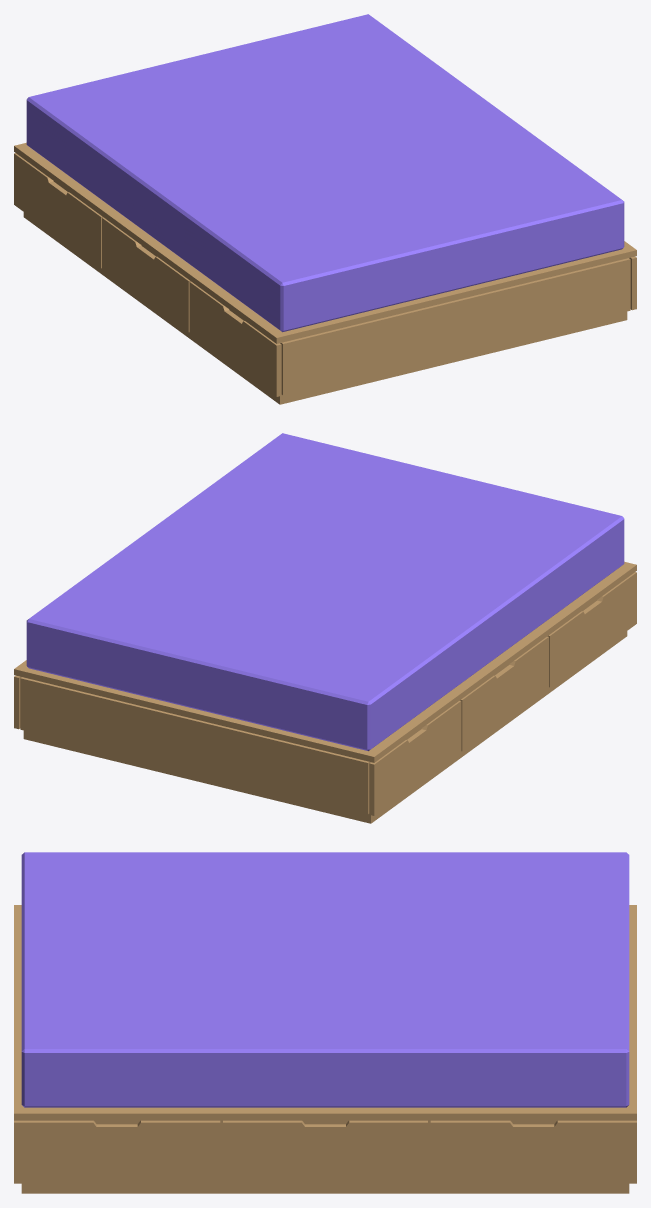
Rendered from jb_double_bed.fbx.
The picture shows the model from 3 angles, top to bottom: view 1: azimuth 30°, elevation 25°; view 2: azimuth 150°, elevation 25°; view 3: azimuth 270°, elevation 25°; orthographic projection. The views are drawn at different scales.
Parts seen in each view (by area): view 1: bed1; view 2: bed1; view 3: bed1.
Boxes of the visible parts, bbox=[...] form: bed1: bbox=[14, 14, 636, 404]; bed1: bbox=[14, 433, 636, 823]; bed1: bbox=[14, 852, 636, 1193].
Size of the model in its own units: 160 by 50.99 by 202.
